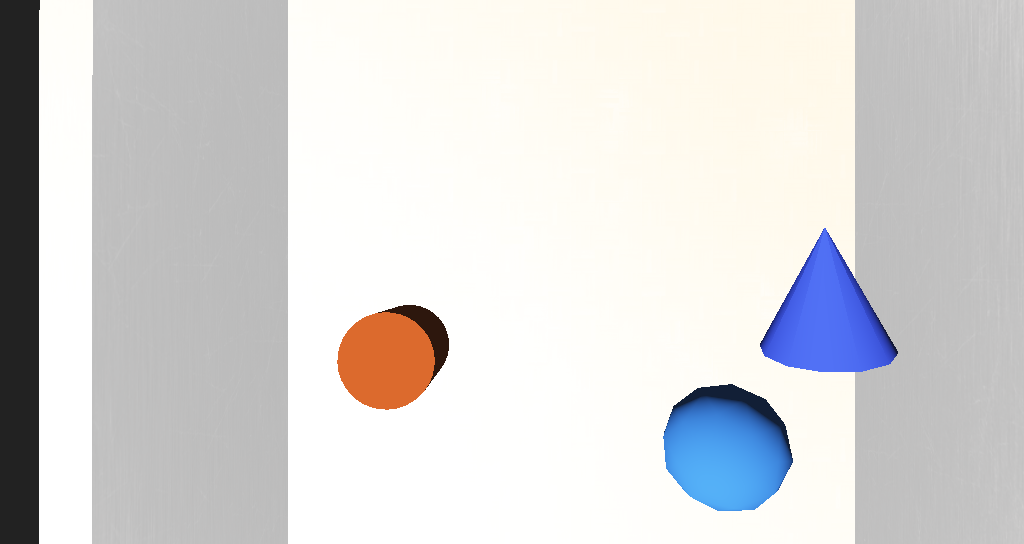cone: (384, 284, 438, 317)
cylinder: (593, 246, 674, 308)
sphere: (546, 305, 613, 353)
